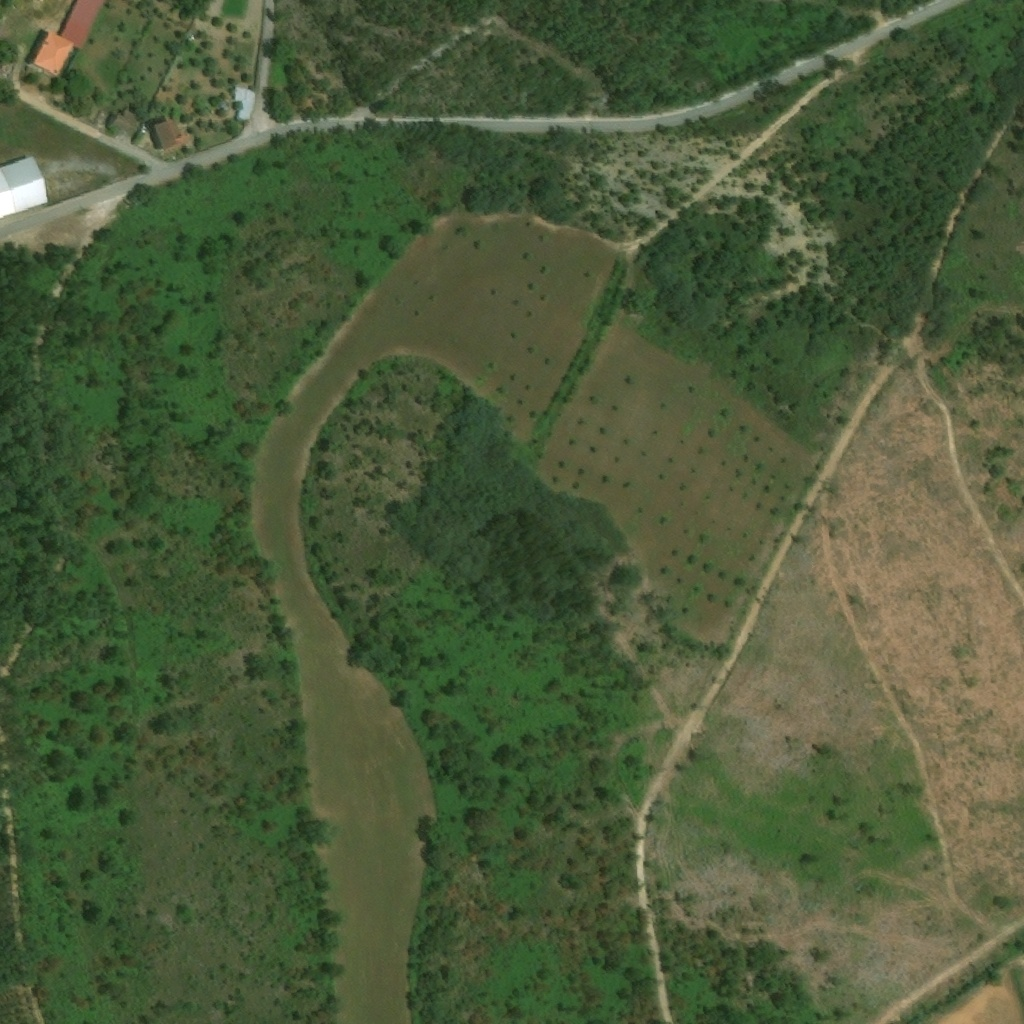0 no-damage: (0, 154, 49, 219), (32, 30, 76, 77), (68, 0, 107, 31), (150, 120, 181, 150), (109, 109, 140, 137), (233, 87, 257, 121)
4 un-classified: (129, 0, 153, 10)
